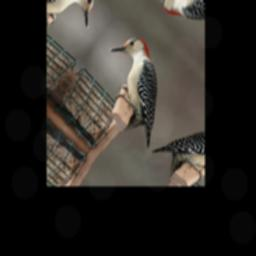Woodpecker: (80, 24, 193, 153)
